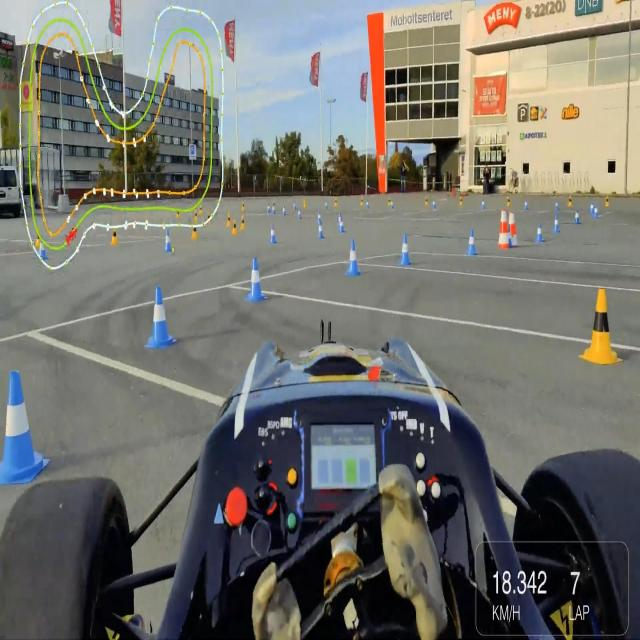blue_cone: (0, 361, 45, 491), (144, 285, 177, 352), (245, 258, 267, 303), (345, 237, 364, 277), (399, 234, 411, 268), (467, 230, 479, 258), (504, 222, 513, 248), (535, 222, 544, 244), (40, 238, 48, 260), (165, 228, 172, 252), (270, 226, 278, 243), (320, 222, 326, 242), (553, 216, 560, 233), (339, 218, 345, 235), (337, 212, 344, 225), (574, 210, 580, 225), (593, 203, 599, 218), (271, 204, 277, 216), (481, 198, 486, 211), (590, 200, 594, 216), (524, 199, 529, 211), (432, 198, 437, 210), (318, 211, 322, 224), (298, 207, 302, 220), (366, 197, 370, 210), (266, 202, 270, 214), (556, 200, 560, 212), (282, 207, 286, 218), (390, 200, 394, 211), (325, 201, 328, 209), (294, 201, 296, 210)
large_orange_cone: (498, 208, 509, 250), (508, 210, 520, 248)
yellow_cone: (580, 288, 622, 366), (111, 228, 119, 246), (35, 228, 42, 248), (226, 212, 233, 230), (191, 223, 198, 240), (232, 220, 238, 238), (240, 215, 246, 232), (604, 195, 610, 208), (198, 204, 204, 217), (568, 194, 573, 208), (193, 210, 198, 223), (506, 195, 511, 206), (459, 196, 463, 208), (424, 196, 428, 208), (360, 195, 364, 207), (242, 201, 246, 213), (334, 198, 338, 208), (388, 195, 391, 207)
